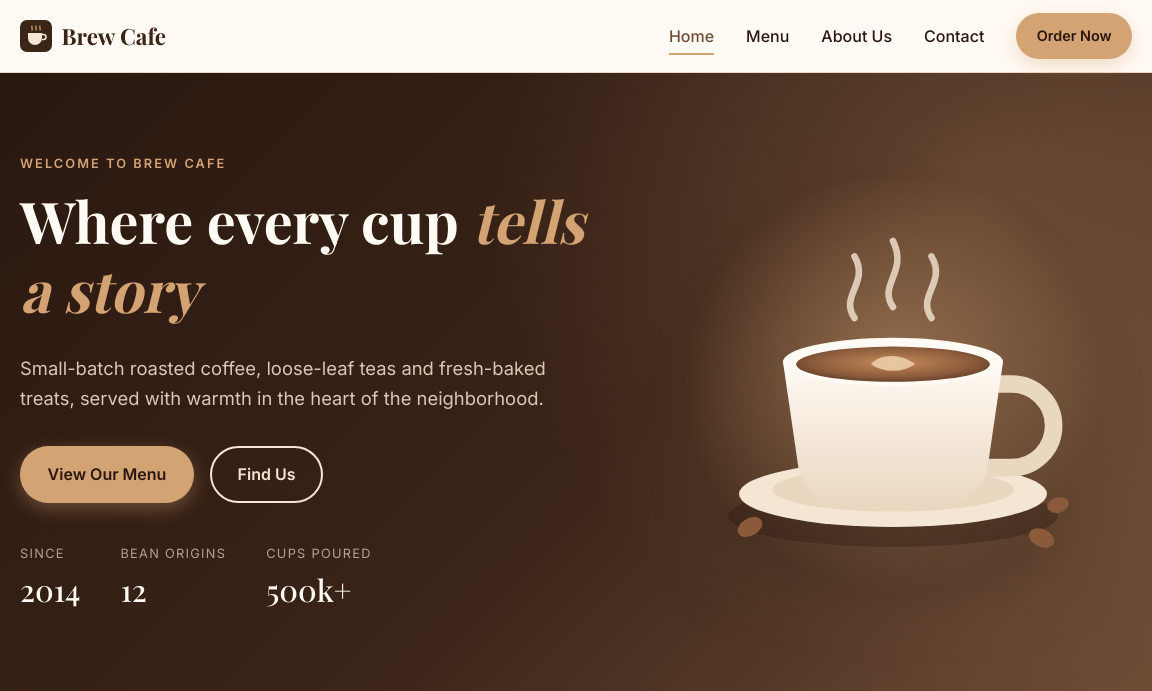
Test: Brew Cafe › navigates between pages
What coordinates should you click on to do the following:
click the link "About Us"
I would click on:
 (857, 36)
Its box is [821, 19, 892, 53].
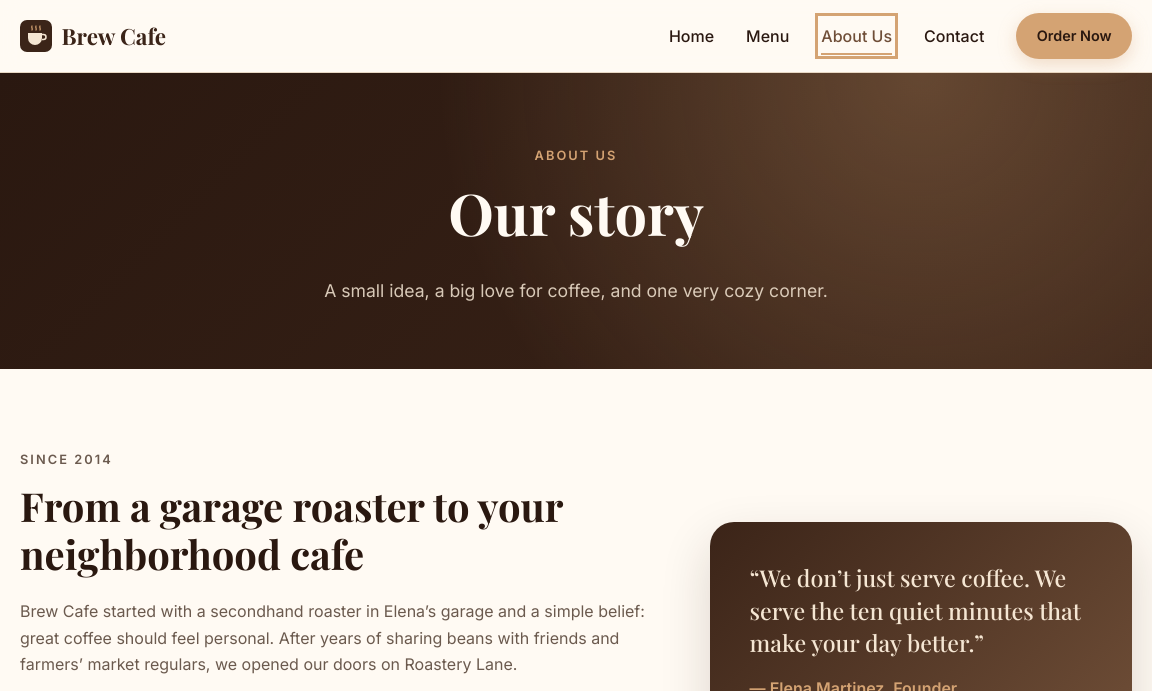
Expected: the heading "Our story" is shown, [448, 174, 704, 250]
What coordinates should you click on to do the following:
click the link "Contact"
I would click on:
 (954, 36)
Its box is [924, 19, 984, 53].
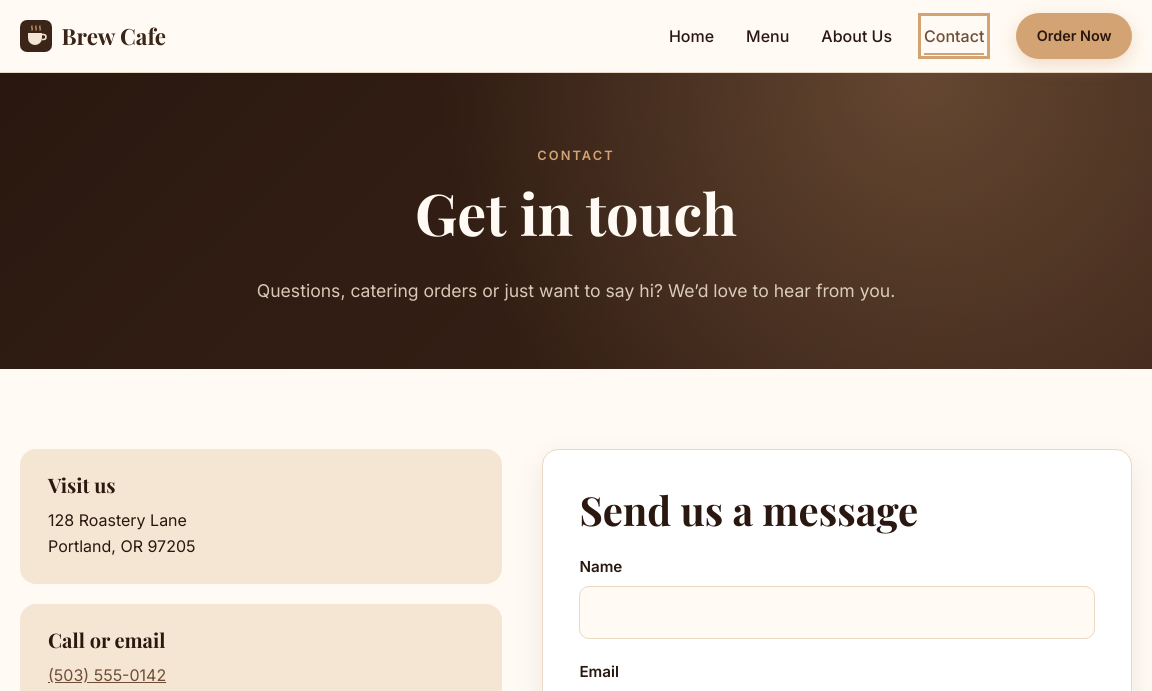
Expected: the heading "Get in touch" is shown, [415, 174, 737, 250]
